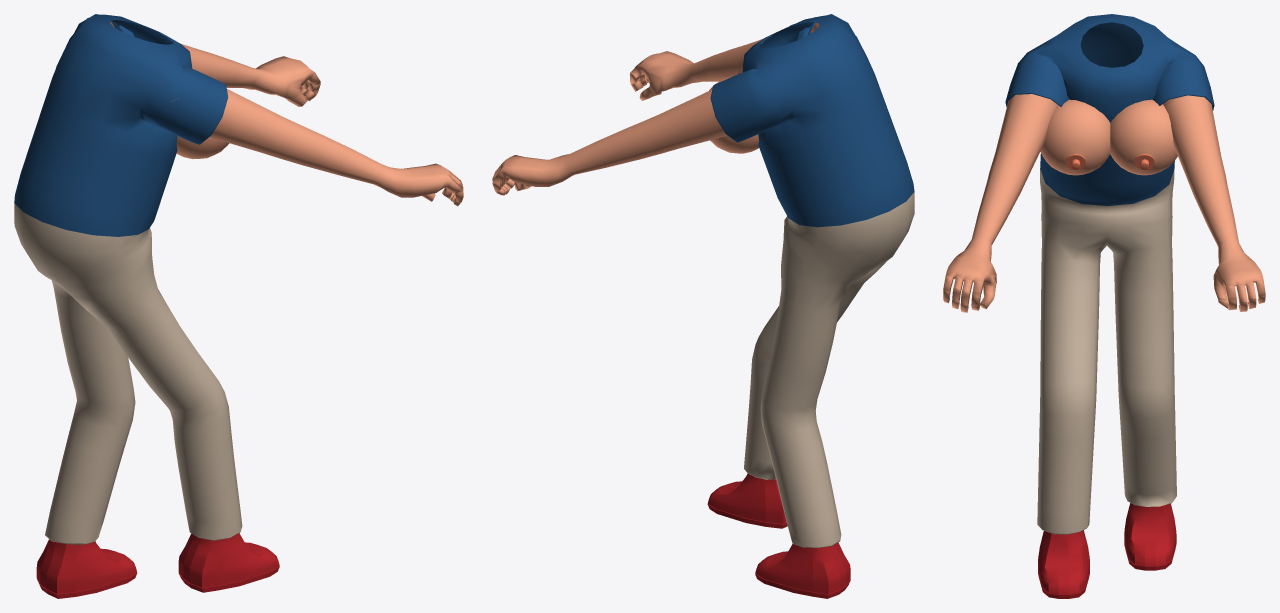
File: rider1.fbx
3 views of the same model, side by side, from view 1: azimuth 30°, elevation 25°; view 2: azimuth 150°, elevation 25°; view 3: azimuth 270°, elevation 25° (orthographic). The views are drawn at different scales.
Visible parts, largest first — view 1: Body, hands, Shoes, Sphere; view 2: Body, hands, Shoes, Sphere_1; view 3: Body, hands, Shoes, Sphere, Sphere_1.
Part boxes in pixels (x1,y1,x2,y2): Body: (14, 14, 242, 544); hands: (180, 43, 463, 206); Shoes: (36, 533, 279, 598); Sphere: (176, 136, 229, 159); Body: (710, 14, 914, 547); hands: (492, 30, 812, 195); Shoes: (707, 473, 850, 598); Sphere_1: (709, 77, 759, 153); Body: (1005, 14, 1214, 534); hands: (943, 94, 1265, 312); Shoes: (1038, 503, 1176, 598); Sphere: (1040, 99, 1110, 175); Sphere_1: (1110, 99, 1177, 175).
Size of the model in its own units: 94.95 by 142 by 77.84.
